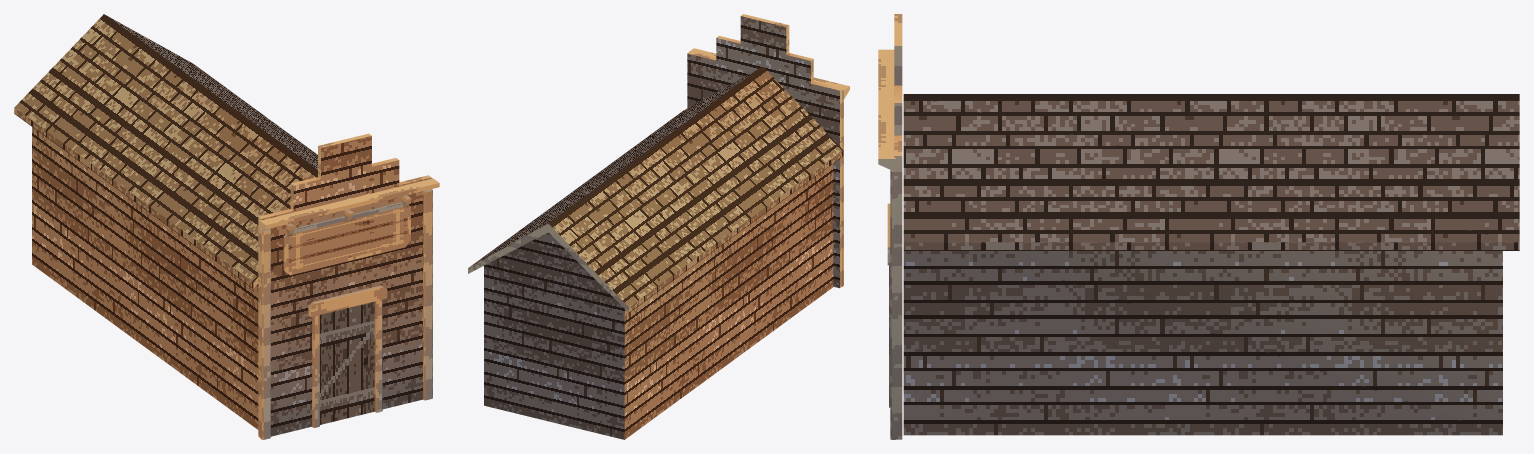
File: wtown.store__narrow.glb
3 views of the same model, side by side, from view 1: azimuth 30°, elevation 25°; view 2: azimuth 150°, elevation 25°; view 3: azimuth 270°, elevation 25° (orthographic). The views are drawn at different scales.
Visible parts, largest first — view 1: kit_roof, kit_body, kit_front, kit_trim, kit_card_panes; view 2: kit_body, kit_roof, kit_front, kit_trim; view 3: kit_body, kit_roof, kit_trim, kit_front.
Boxes of the visible parts, bbox=[...] form: kit_roof: bbox=[14, 14, 317, 288]; kit_body: bbox=[32, 127, 258, 429]; kit_front: bbox=[258, 133, 431, 437]; kit_trim: bbox=[259, 178, 439, 439]; kit_card_panes: bbox=[288, 207, 407, 424]; kit_body: bbox=[484, 164, 833, 439]; kit_roof: bbox=[468, 66, 843, 312]; kit_front: bbox=[687, 14, 842, 288]; kit_trim: bbox=[688, 48, 849, 286]; kit_body: bbox=[903, 251, 1502, 435]; kit_roof: bbox=[903, 94, 1519, 250]; kit_trim: bbox=[878, 49, 895, 439]; kit_front: bbox=[894, 14, 902, 439].
Bounding box in the file's own units: 4 × 5.9 × 9.63.
Materials: 5 (5 with a texture image).
